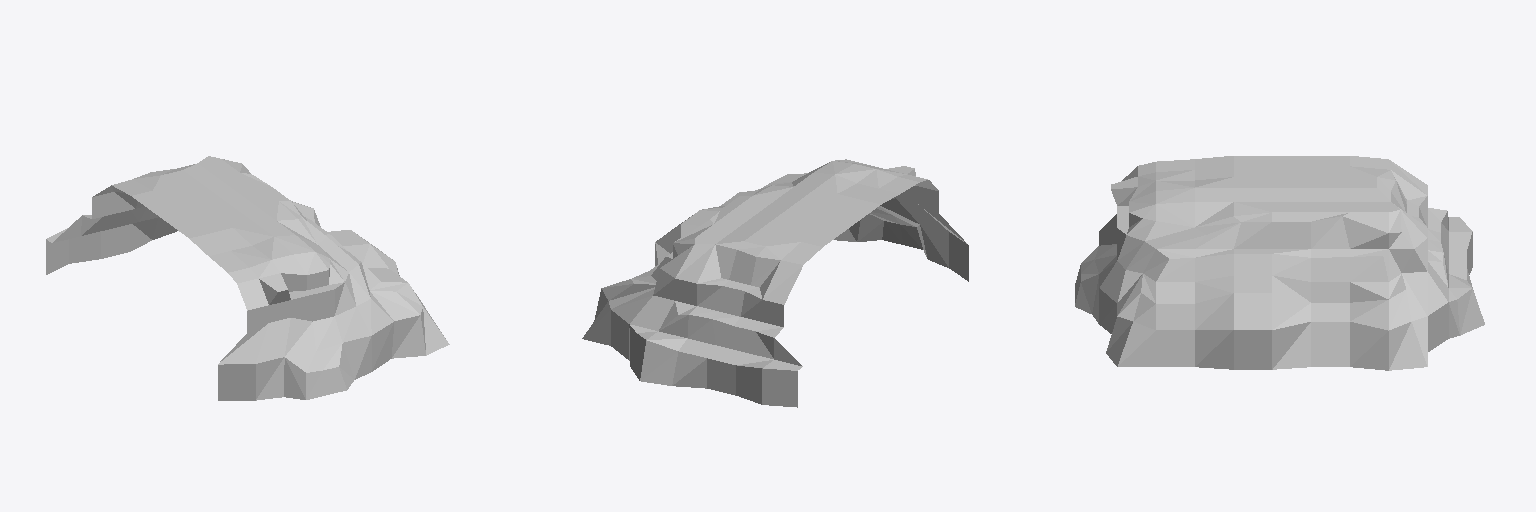
Rendered from mLv1Mountain05.obj.
3 renders of one model, left to right at view 1: azimuth 30°, elevation 25°; view 2: azimuth 150°, elevation 25°; view 3: azimuth 270°, elevation 25°, orthographic.
Visible parts, largest first — view 1: mMountain03; view 2: mMountain03; view 3: mMountain03.
Part boxes in pixels (x1,y1,x2,y2): mMountain03: (46, 156, 449, 400); mMountain03: (582, 159, 968, 407); mMountain03: (1075, 156, 1484, 370).
Bounding box in the file's own units: 39.22 × 17.65 × 58.24.